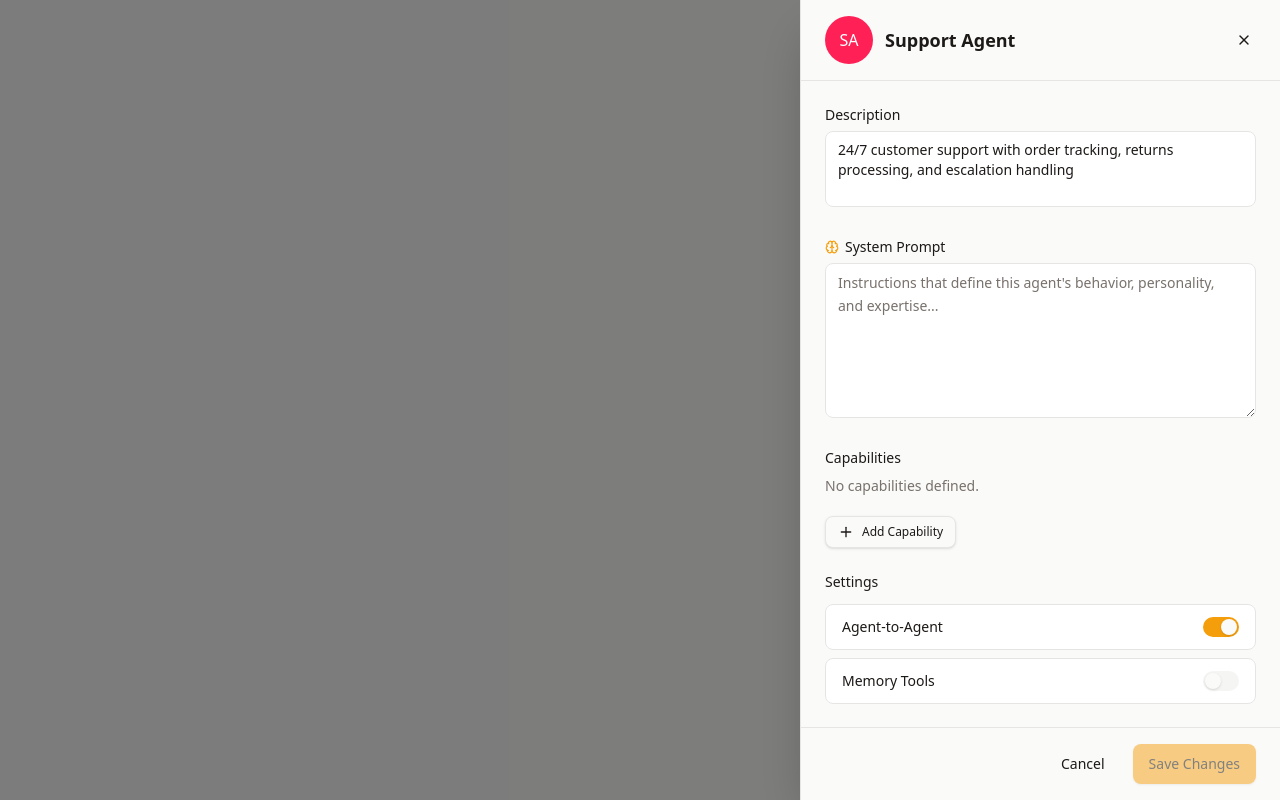
Test: Workforce Components – Coverage Batch 2 › AgentEditorSheet › Add Capability button reveals inline form
Check: the heading "Capabilities" is shown, box [825,448,901,466]
What coordinates should you click on to do the following:
click the button "Add Capability"
I would click on:
 (891, 532)
Its box is [825,516,956,548].
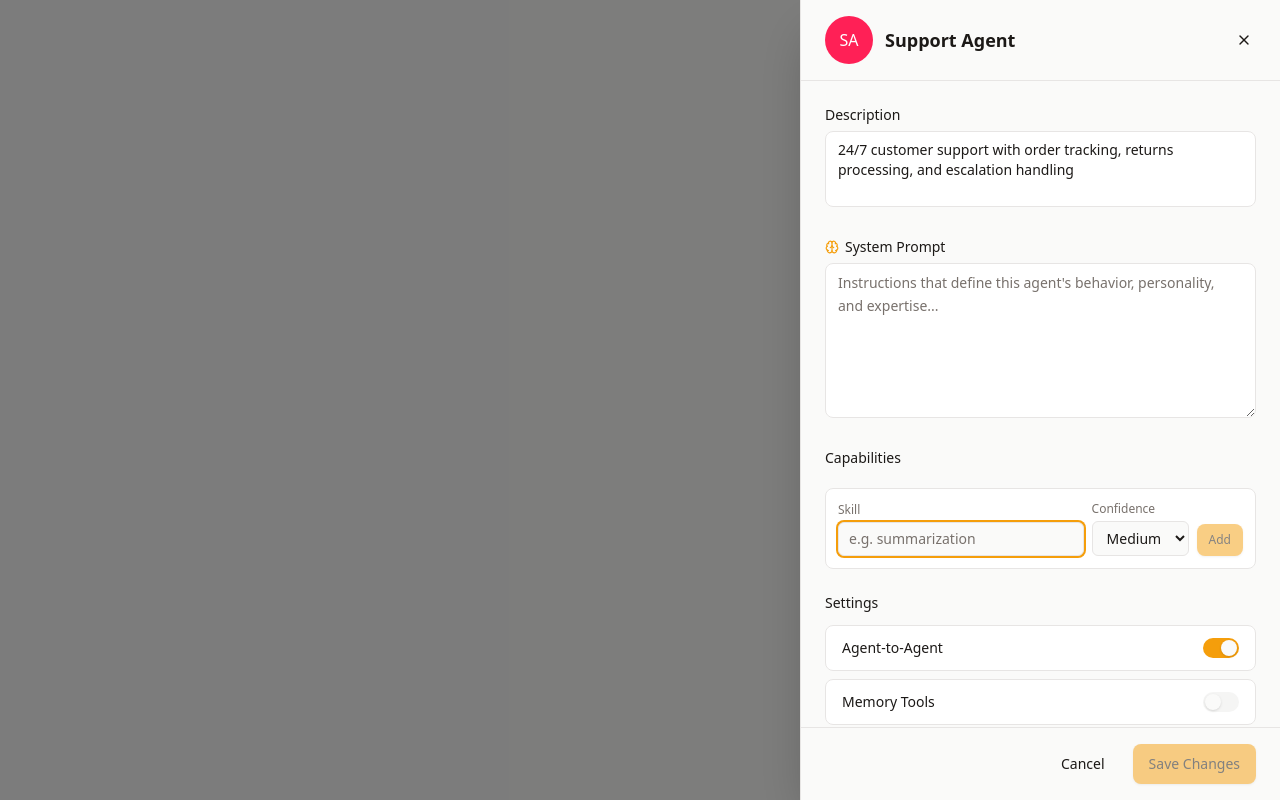
Check: the field labelled "Skill" is shown, box [838,522,1084,556]
Check: the dropdown labelled "Confidence" is shown, box [1092,520,1189,556]
